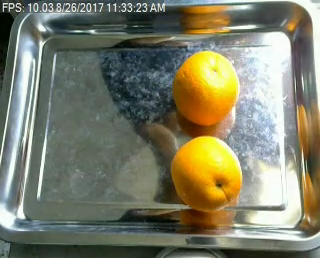Orange: (169, 135, 242, 212), (172, 50, 240, 124)
